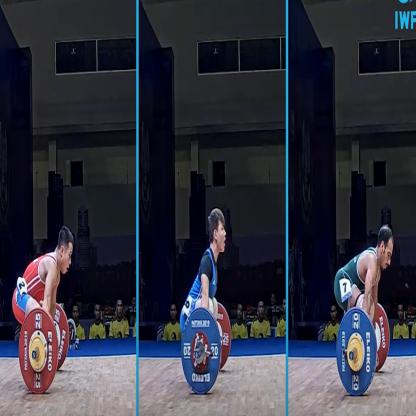Barbell: (332, 302, 380, 401), (177, 302, 223, 398), (16, 305, 62, 398)
